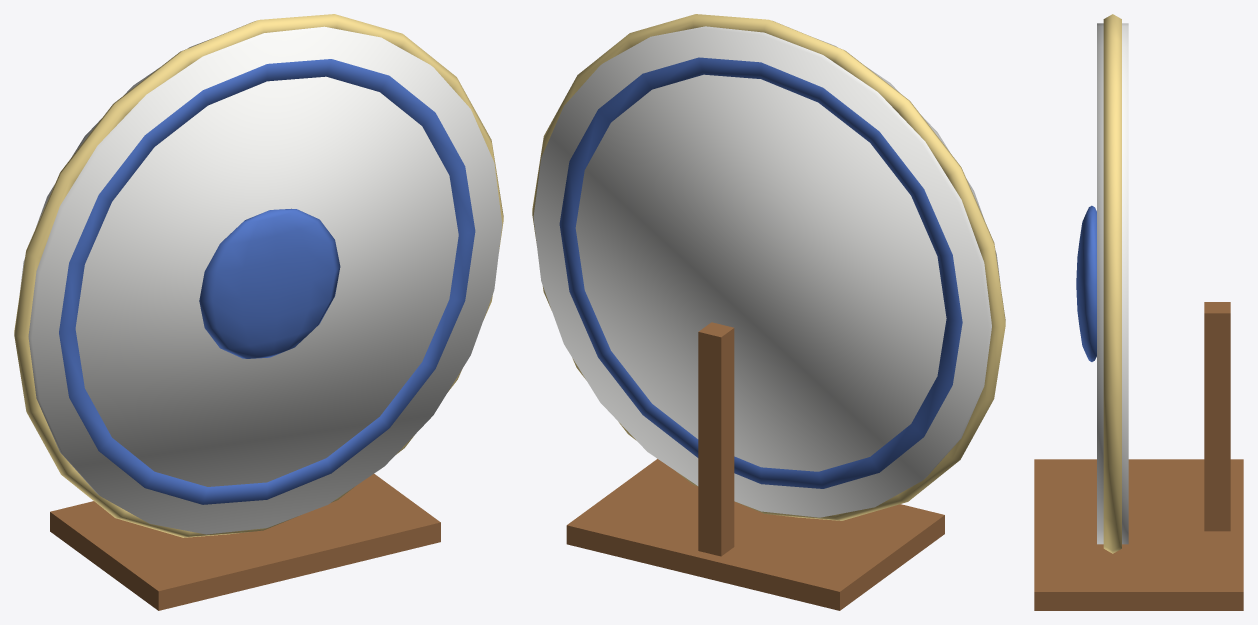
File: china_plate.glb
The picture shows the model from 3 angles, left to right: view 1: azimuth 30°, elevation 25°; view 2: azimuth 150°, elevation 25°; view 3: azimuth 270°, elevation 25°; orthographic projection. The views are drawn at different scales.
Visible parts, largest first — view 1: china_plate; view 2: china_plate; view 3: china_plate.
Boxes of the visible parts, <box> form: china_plate: <box>14,14,503,610</box>; china_plate: <box>532,14,1005,610</box>; china_plate: <box>1034,14,1243,610</box>.
Size of the model in its own units: 0.208 by 0.214 by 0.08.
